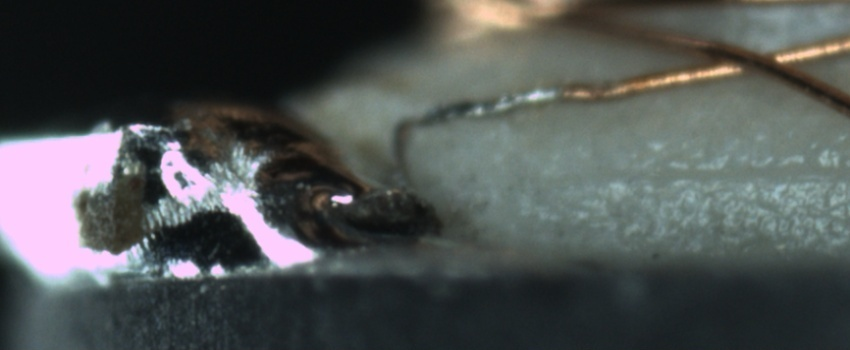CL: (695, 39, 819, 82)
DL: (564, 139, 849, 199)
TS: (400, 88, 559, 192)
TTCW: (387, 73, 645, 182)
